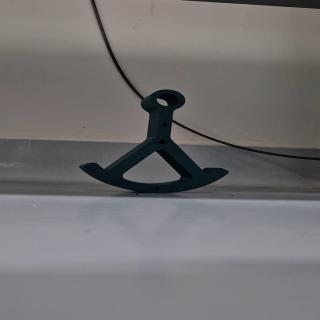haptic: (78, 89, 230, 193)
